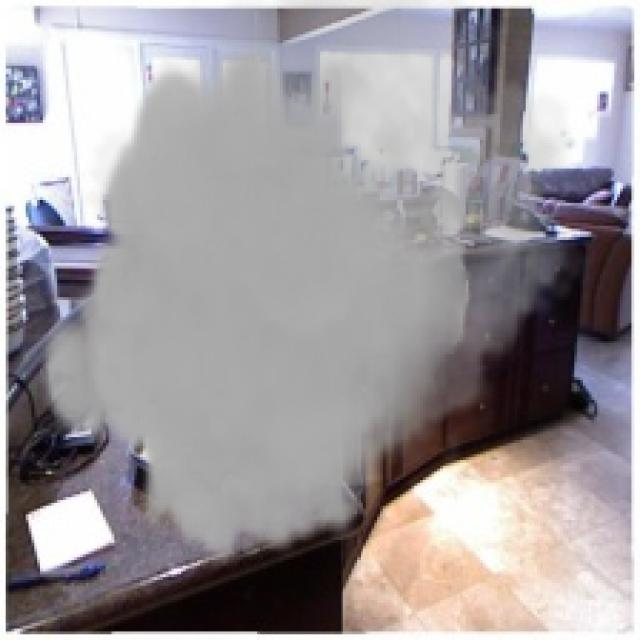smoke: (37, 0, 589, 566)
